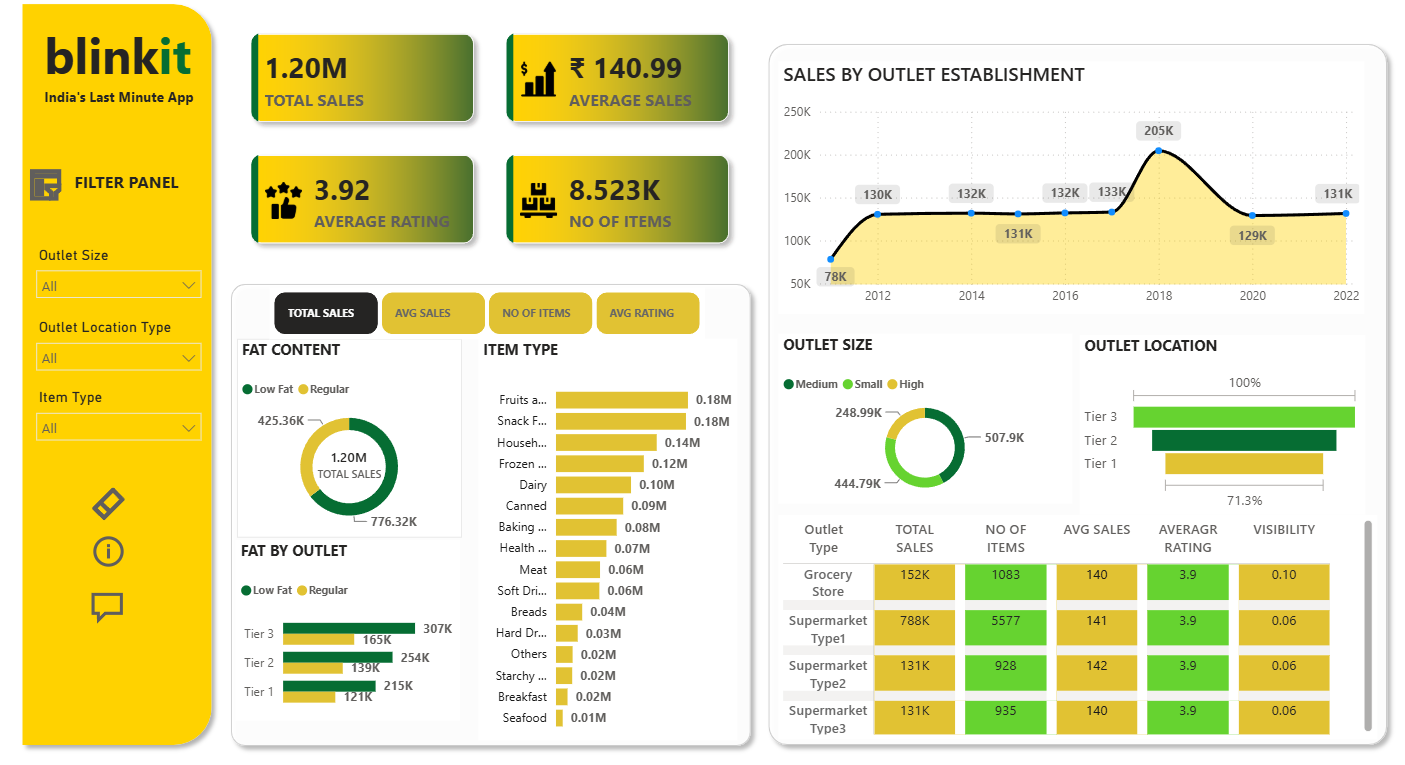

The dashboard page shown, as its layout file describes it:
{"tool":"powerbi","page":{"name":"Page 1","canvas":[1400,800],"ordinal":0},"visuals":[{"type":"shape","box":[16.5,0,205,750],"z":0},{"type":"textbox","box":[42,21,193.6,66],"z":1000},{"type":"textbox","box":[42,87.1,180.1,31.5],"z":2000},{"type":"cardVisual","fields":{"Data":["BlinkIT Grocery Data.Total Sales","Avg(BlinkIT Grocery Data.Sales)","Avg(BlinkIT Grocery Data.Rating)","CountNonNull(BlinkIT Grocery Data.Item Type)"]},"box":[222.1,9,531.3,267.2],"z":3000},{"type":"shape","box":[222.1,276.2,531.3,474.3],"z":4000},{"type":"donutChart","title":"FAT CONTENT","fields":{"Y":["BlinkIT Grocery Data.TOTAL SALES"],"Category":["BlinkIT Grocery Data.Item Fat Content"]},"box":[237,340.2,222,195.7],"z":5000},{"type":"advancedSlicerVisual","fields":{"Values":["Parameter.Parameter"]},"box":[269.2,288.9,430.8,51.2],"z":6000},{"type":"cardVisual","fields":{"Data":["BlinkIT Grocery Data.TOTAL SALES"]},"box":[271.4,419.2,153.7,89.3],"z":7000},{"type":"clusteredBarChart","title":"FAT BY OUTLET","fields":{"Y":["BlinkIT Grocery Data.TOTAL SALES"],"Category":["BlinkIT Grocery Data.Outlet Location Type"],"Series":["BlinkIT Grocery Data.Item Fat Content"]},"box":[235.7,539,222,178.6],"z":8000},{"type":"barChart","title":"ITEM TYPE","fields":{"Y":["BlinkIT Grocery Data.TOTAL SALES"],"Category":["BlinkIT Grocery Data.Item Type"]},"box":[475.4,340.2,256.1,396.6],"z":9000},{"type":"shape","box":[753.8,39.4,629.1,710.5],"z":10000},{"type":"lineChart","title":"SALES BY OUTLET ESTABLISHMENT","fields":{"Category":["BlinkIT Grocery Data.Outlet Establishment Year"],"Y":["BlinkIT Grocery Data.TOTAL SALES"]},"box":[772.2,65.7,579.2,249.5],"z":11000},{"type":"donutChart","title":"OUTLET SIZE","fields":{"Y":["BlinkIT Grocery Data.TOTAL SALES"],"Category":["BlinkIT Grocery Data.Outlet Size"]},"box":[772.2,334.9,290.2,168.1],"z":12000},{"type":"funnel","title":"OUTLET LOCATION","fields":{"Y":["BlinkIT Grocery Data.TOTAL SALES"],"Category":["BlinkIT Grocery Data.Outlet Location Type"]},"box":[1069,336.2,282.4,177.3],"z":13000},{"type":"pivotTable","title":"OUTLET LOCATION","fields":{"Rows":["BlinkIT Grocery Data.Outlet Type"],"Values":["BlinkIT Grocery Data.TOTAL SALES","BlinkIT Grocery Data.NO OF ITEMS","BlinkIT Grocery Data.AVG SALES","BlinkIT Grocery Data.AVERAGR RATING","Avg(BlinkIT Grocery Data.Item Visibility)"]},"box":[772.2,513.5,592.3,222],"z":14000},{"type":"slicer","title":"OUTLET SIZE","fields":{"Values":["BlinkIT Grocery Data.Outlet Location Type"]},"box":[28.9,315.2,183.9,76.2],"z":15000},{"type":"slicer","title":"OUTLET SIZE","fields":{"Values":["BlinkIT Grocery Data.Outlet Size"]},"box":[28.9,243,183.9,76.2],"z":16000},{"type":"slicer","title":"OUTLET SIZE","fields":{"Values":["BlinkIT Grocery Data.Item Type"]},"box":[28.9,383.5,183.9,76.2],"z":17000},{"type":"textbox","box":[71.2,167.6,120.8,43.3],"z":18000},{"type":"actionButton","box":[90.2,482.4,100,40],"z":19000},{"type":"actionButton","box":[28.5,167.6,91.7,39.5],"z":20000},{"type":"actionButton","box":[90.2,529.8,100,40],"z":21000},{"type":"actionButton","box":[88.6,585.2,100,40],"z":22000}]}

Visuals, with their boxes on the page's 1400x800 design canvas (x1, y1, x2, y2). These are canvas units, not pixel positions in the 1405x765 screenshot, which may show the page scaled, cropped or inside an application window:
shape: <box>16,0,222,750</box>
textbox: <box>42,21,236,87</box>
textbox: <box>42,87,222,119</box>
cardVisual - BlinkIT Grocery Data.Total Sales x Avg(BlinkIT Grocery Data.Sales): <box>222,9,753,276</box>
shape: <box>222,276,753,750</box>
"FAT CONTENT" donutChart: <box>237,340,459,536</box>
advancedSlicerVisual - Parameter.Parameter: <box>269,289,700,340</box>
cardVisual - BlinkIT Grocery Data.TOTAL SALES: <box>271,419,425,508</box>
"FAT BY OUTLET" clusteredBarChart: <box>236,539,458,718</box>
"ITEM TYPE" barChart: <box>475,340,732,737</box>
shape: <box>754,39,1383,750</box>
"SALES BY OUTLET ESTABLISHMENT" lineChart: <box>772,66,1351,315</box>
"OUTLET SIZE" donutChart: <box>772,335,1062,503</box>
"OUTLET LOCATION" funnel: <box>1069,336,1351,514</box>
"OUTLET LOCATION" pivotTable: <box>772,514,1364,736</box>
"OUTLET SIZE" slicer: <box>29,315,213,391</box>
"OUTLET SIZE" slicer: <box>29,243,213,319</box>
"OUTLET SIZE" slicer: <box>29,384,213,460</box>
textbox: <box>71,168,192,211</box>
actionButton: <box>90,482,190,522</box>
actionButton: <box>28,168,120,207</box>
actionButton: <box>90,530,190,570</box>
actionButton: <box>89,585,189,625</box>
